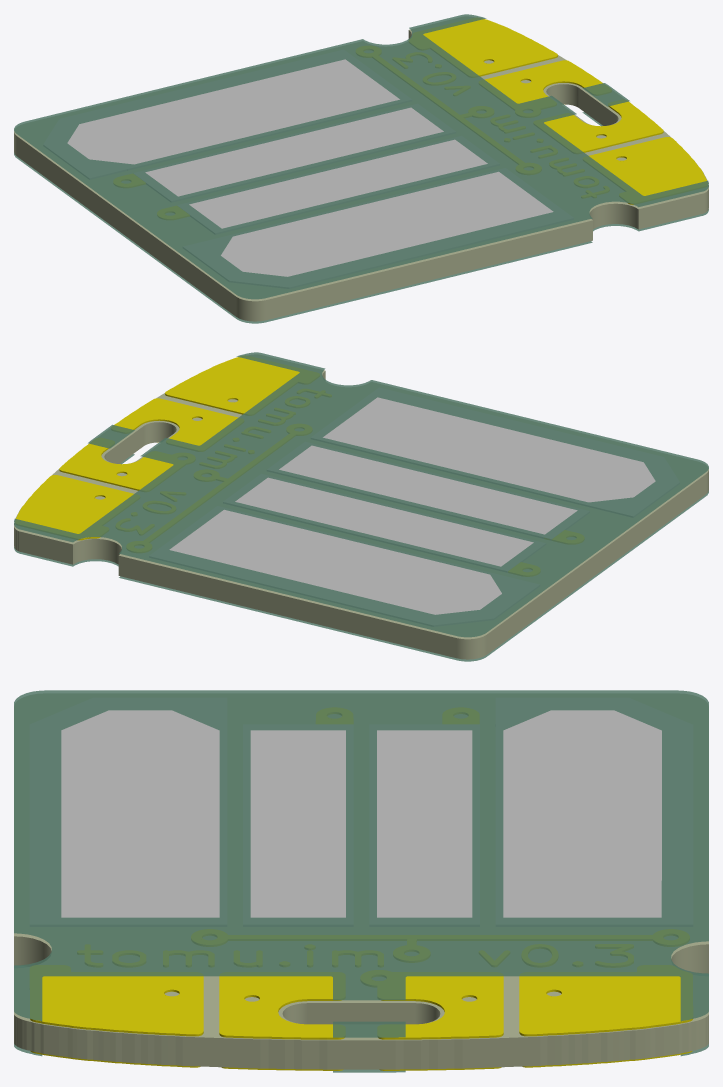
Rendered from board.glb.
3 views of the same model, one above another, from view 1: azimuth 30°, elevation 25°; view 2: azimuth 150°, elevation 25°; view 3: azimuth 270°, elevation 25° (orthographic). The views are drawn at different scales.
Visible parts, largest first — view 1: board_pad, board_soldermask (×2), board_PCB, board_copper; view 2: board_pad, board_soldermask (×2), board_PCB, board_copper; view 3: board_pad, board_soldermask, board_PCB, board_copper, board_via.
Part boxes in pixels (<box>): board_pad: <box>44,50,573,288</box>; board_soldermask (×2): <box>14,14,708,323</box>; board_PCB: <box>14,17,708,321</box>; board_copper: <box>114,18,706,219</box>; board_pad: <box>149,388,679,626</box>; board_soldermask (×2): <box>14,352,708,661</box>; board_PCB: <box>14,355,708,659</box>; board_copper: <box>16,356,583,576</box>; board_pad: <box>30,698,692,926</box>; board_soldermask: <box>14,690,708,1037</box>; board_PCB: <box>14,694,708,1069</box>; board_copper: <box>30,708,692,1070</box>; board_via: <box>162,712,679,1002</box>.
Bounding box in the file's own units: 0.013 × 0.00141 × 0.011.
